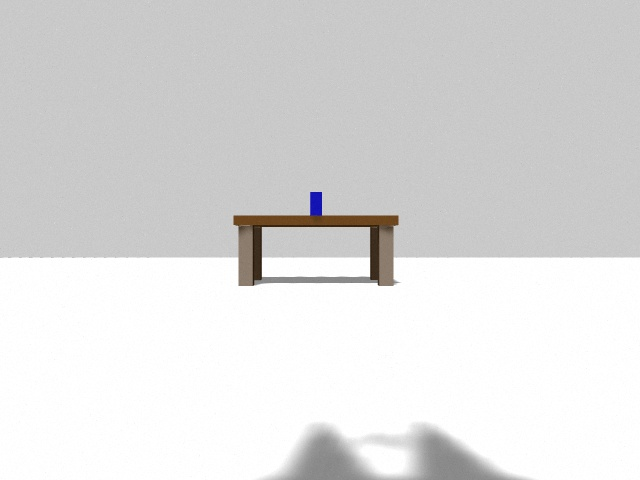blue_cube: (310, 192, 322, 216)
